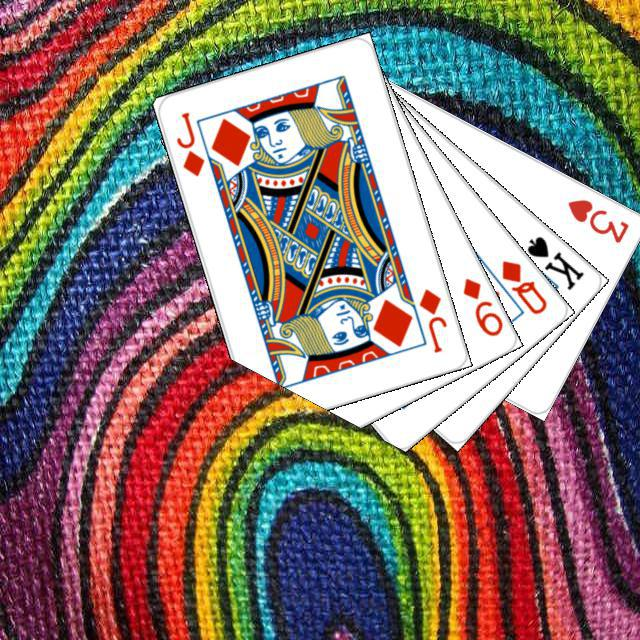3h: (562, 194, 631, 245)
9d: (457, 272, 505, 338)
Jd: (413, 283, 449, 355), (171, 107, 207, 179)
Ks: (521, 231, 586, 292)
Qd: (496, 255, 549, 316)
